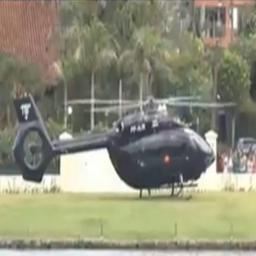helicopter: (10, 90, 237, 207)
